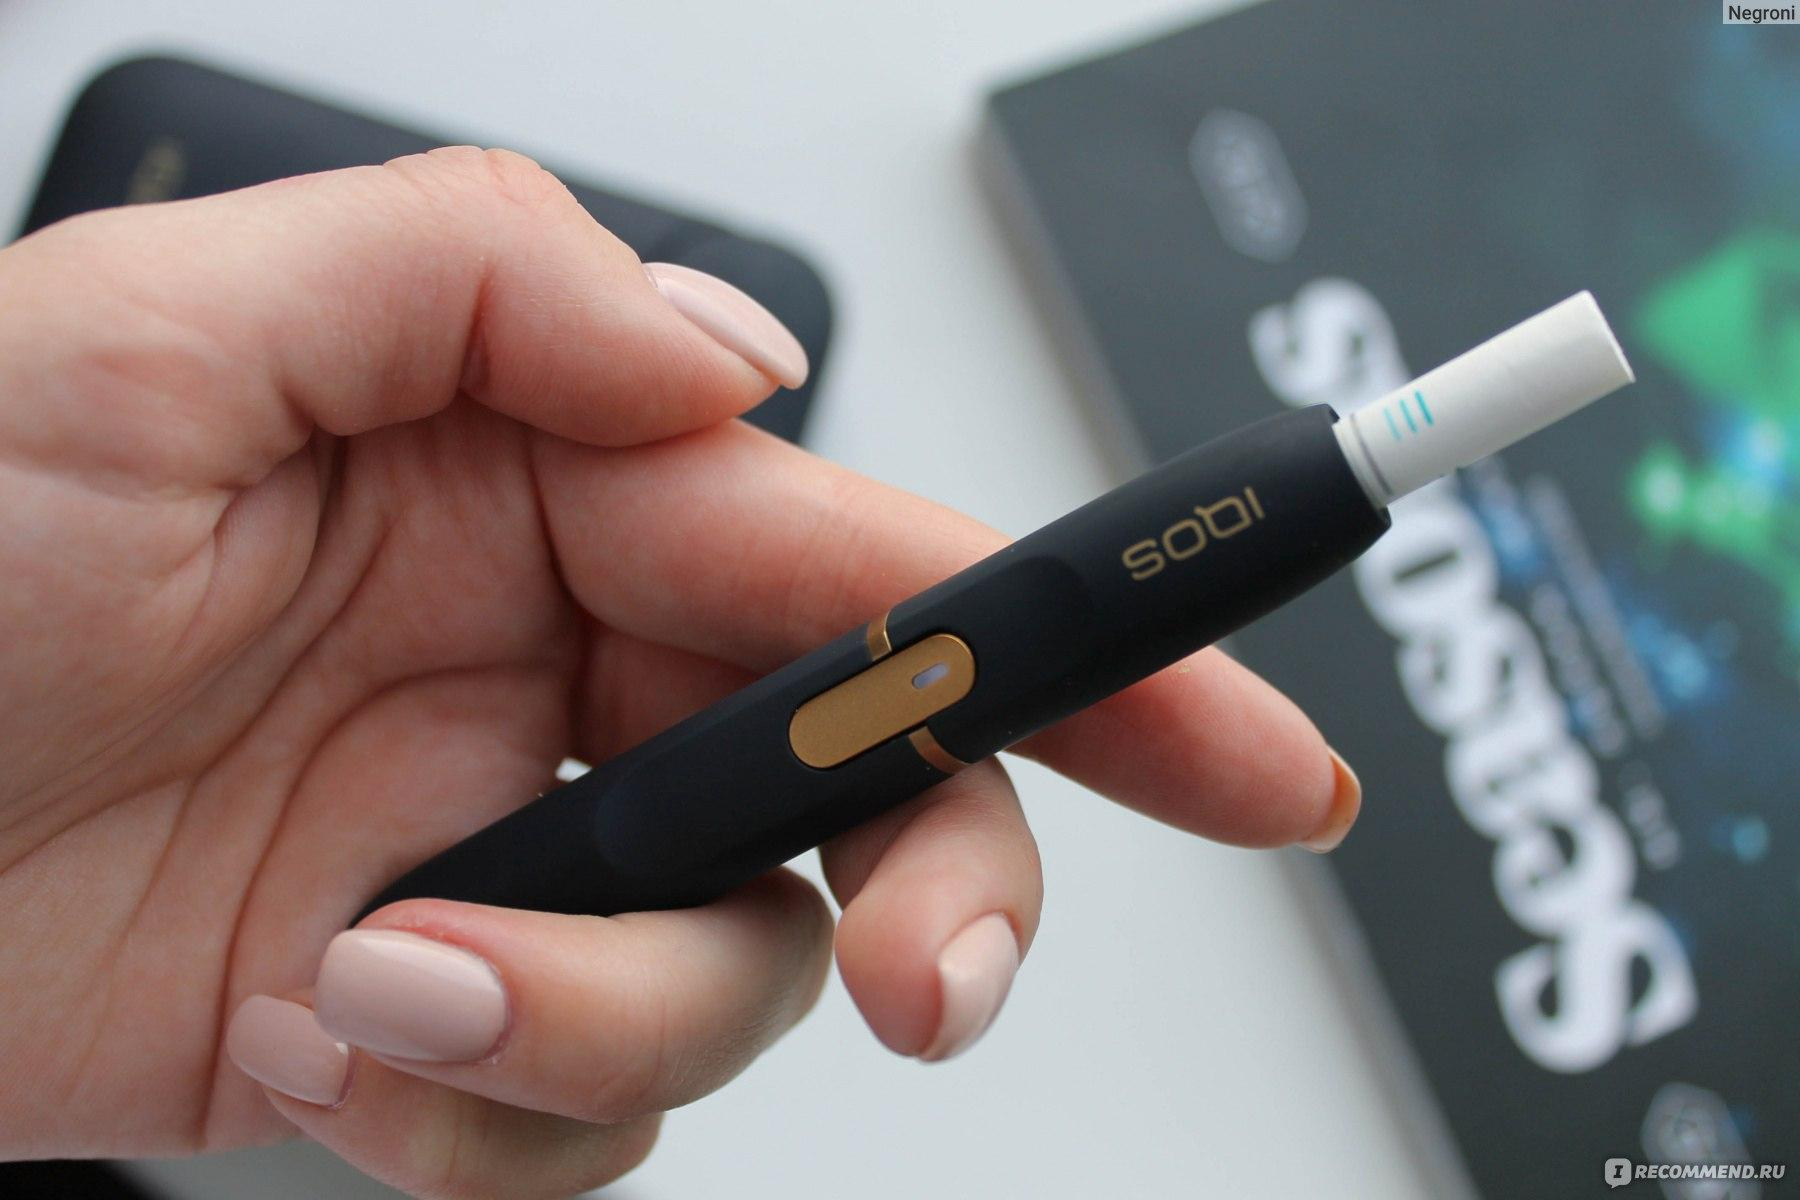iqos: (391, 292, 1633, 913)
